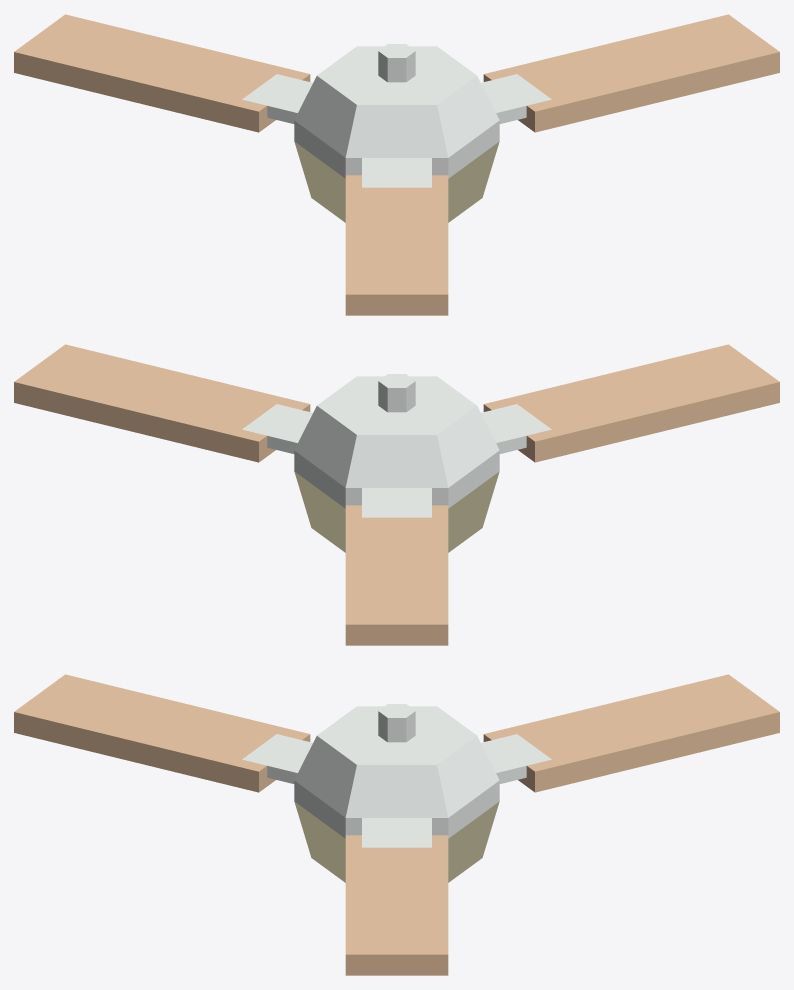
The model's file is ceilingFan.glb.
3 renders of one model, top to bottom at view 1: azimuth 30°, elevation 25°; view 2: azimuth 150°, elevation 25°; view 3: azimuth 270°, elevation 25°, orthographic.
Visible parts, largest first — view 1: ceilingFan(Clone); view 2: ceilingFan(Clone); view 3: ceilingFan(Clone).
Part boxes in pixels (x1=…): ceilingFan(Clone): x1=14, y1=14, x2=779, y2=315; ceilingFan(Clone): x1=14, y1=344, x2=779, y2=645; ceilingFan(Clone): x1=14, y1=674, x2=779, y2=975.
Bounding box in the file's own units: 0.9231 × 0.2714 × 1.07.
Materials: 3 (3 with a texture image).
